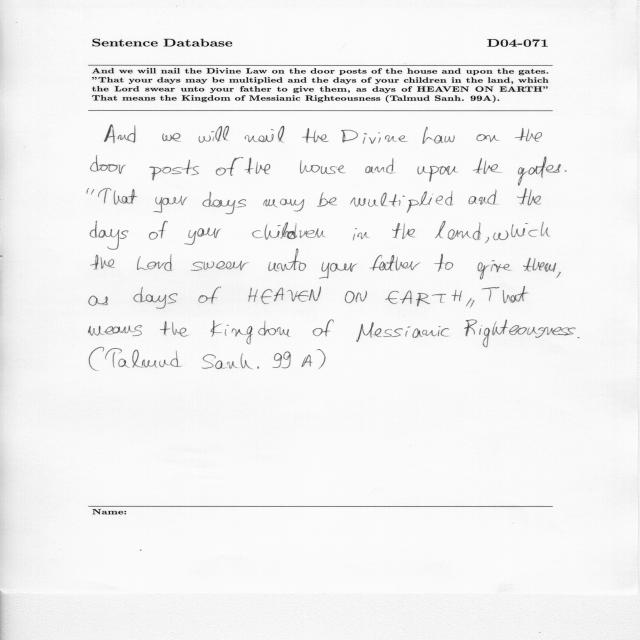word: (464, 320, 580, 347), (350, 191, 453, 213), (211, 321, 291, 345), (356, 322, 449, 342), (105, 348, 182, 368), (252, 222, 325, 240), (248, 286, 321, 304), (518, 156, 561, 186), (385, 290, 462, 306), (90, 221, 128, 250), (493, 222, 551, 241), (150, 160, 200, 181), (133, 287, 178, 309), (202, 192, 246, 214), (341, 130, 408, 144), (202, 353, 259, 369), (435, 221, 481, 240), (268, 249, 306, 272), (370, 255, 420, 271), (481, 287, 528, 304), (477, 260, 512, 280), (245, 126, 285, 143), (273, 352, 313, 369), (91, 155, 126, 174), (98, 188, 137, 205), (418, 166, 459, 182), (319, 262, 357, 279), (300, 161, 345, 175), (184, 228, 221, 245), (137, 254, 173, 271), (89, 325, 142, 336), (191, 261, 249, 271), (154, 196, 188, 213), (422, 127, 455, 144), (105, 125, 136, 143), (263, 199, 304, 212), (216, 157, 243, 176), (199, 126, 229, 143), (473, 158, 502, 174), (469, 189, 498, 205), (160, 321, 189, 337), (523, 258, 556, 272), (365, 158, 395, 173), (245, 158, 271, 175), (199, 286, 222, 304), (517, 189, 541, 206), (302, 128, 329, 143), (515, 128, 542, 142), (393, 223, 416, 239), (149, 221, 168, 240), (91, 255, 115, 270), (89, 347, 104, 371), (435, 254, 454, 272), (313, 320, 334, 336), (317, 193, 337, 207), (345, 291, 367, 303), (353, 228, 370, 241), (89, 296, 108, 306), (477, 134, 500, 142), (317, 349, 326, 369), (162, 133, 181, 141), (466, 298, 475, 308), (87, 189, 94, 195), (556, 271, 561, 278), (485, 237, 489, 243), (565, 170, 567, 172)
